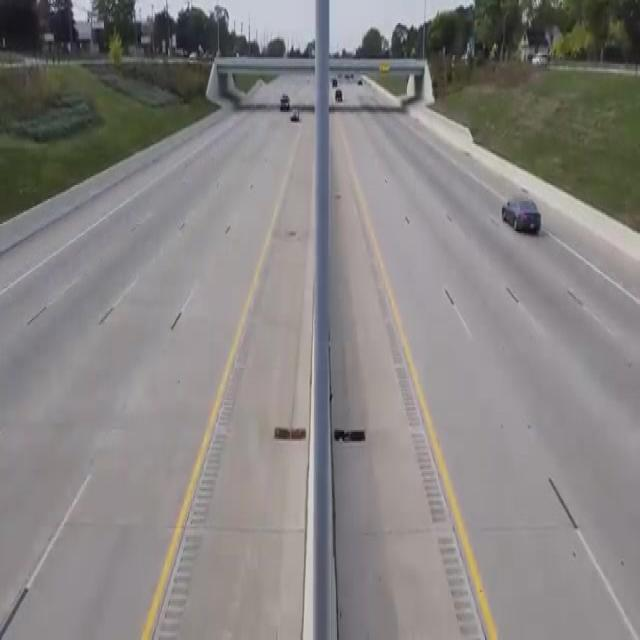car: (490, 182, 560, 246), (267, 88, 291, 112)
